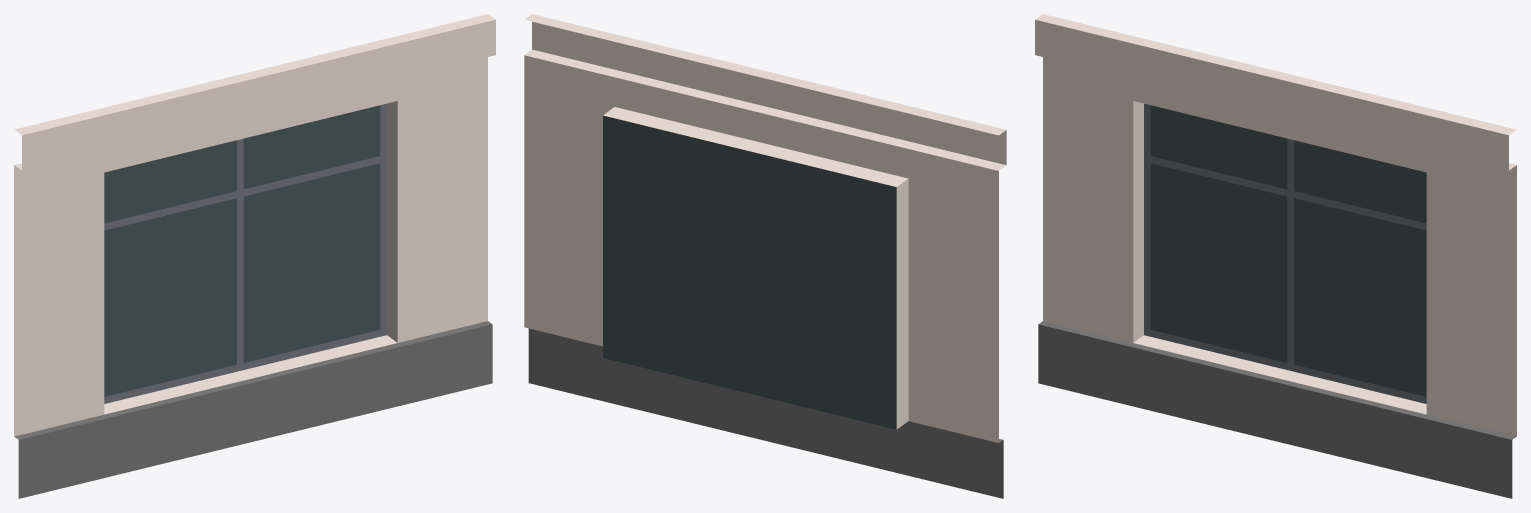
3 renders of one model, left to right at view 1: azimuth 30°, elevation 25°; view 2: azimuth 150°, elevation 25°; view 3: azimuth 330°, elevation 25°, orthographic.
Visible parts, largest first — view 1: a2007/500/base-w1; view 2: a2007/500/base-w1; view 3: a2007/500/base-w1.
Boxes of the visible parts, x1,y1,x2,y2 form: a2007/500/base-w1: (14,14,495,498); a2007/500/base-w1: (524,14,1006,498); a2007/500/base-w1: (1035,14,1516,498).
Size of the model in its own units: 4.2 by 3.1 by 0.3.
